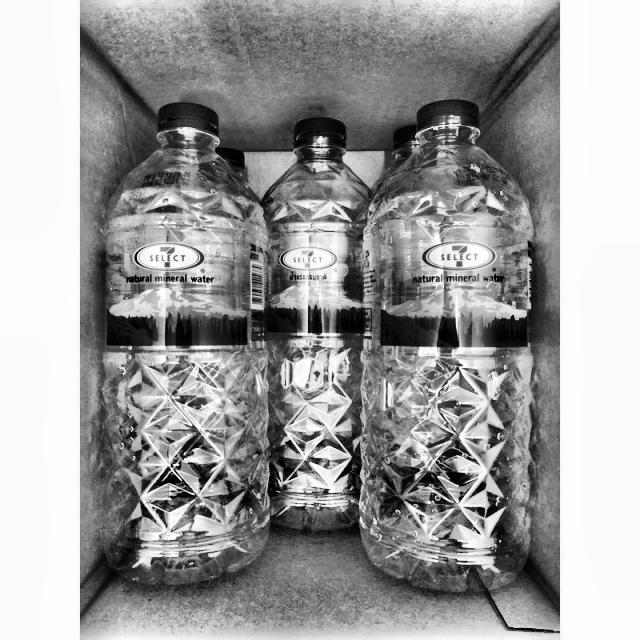waterbottle: (364, 96, 539, 592), (99, 103, 268, 583), (232, 116, 394, 548)
